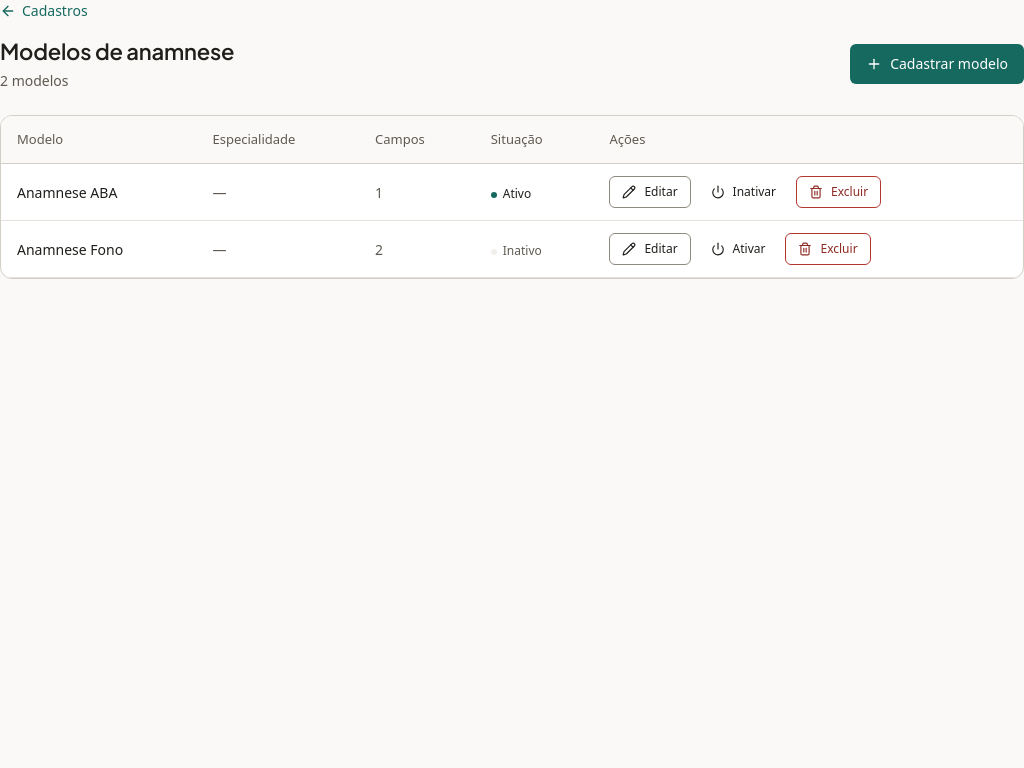
Scenario: Modelos de anamnese — builder de campos › deve comunicar o conflito de versão sem sobrescrever, na edição
The width and height of the screenshot is (1024, 768).
Click the button "Editar" in the row of "Anamnese ABA" at coordinates (650, 192), box [609,176,691,208]
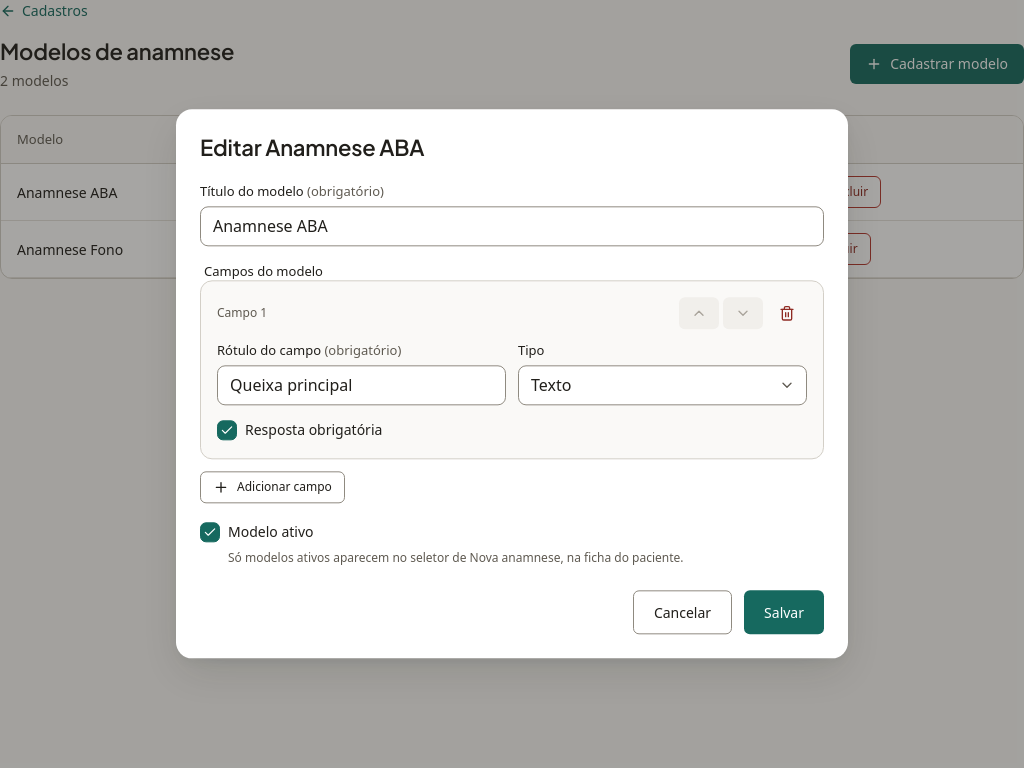
Replace the text in the field labelled "Rótulo do campo (obrigatório)" with "Outro rótulo" at coordinates (362, 386), box [217,366,506,406]
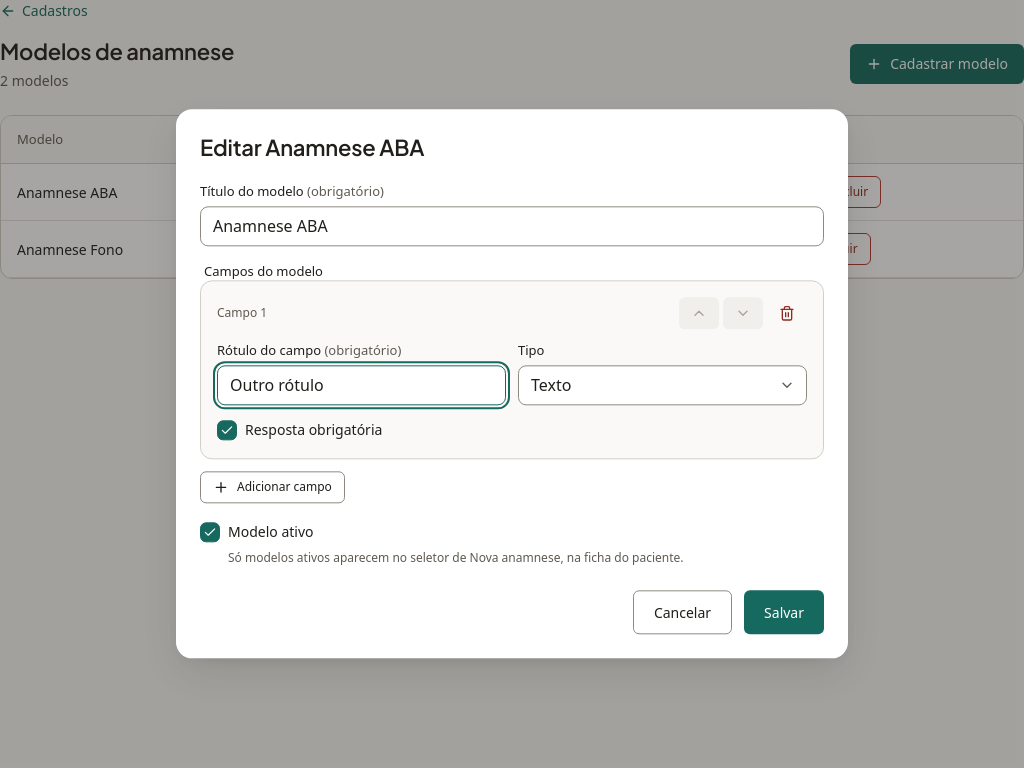
Click the button "Salvar" at coordinates (784, 613), box [744,591,824,635]
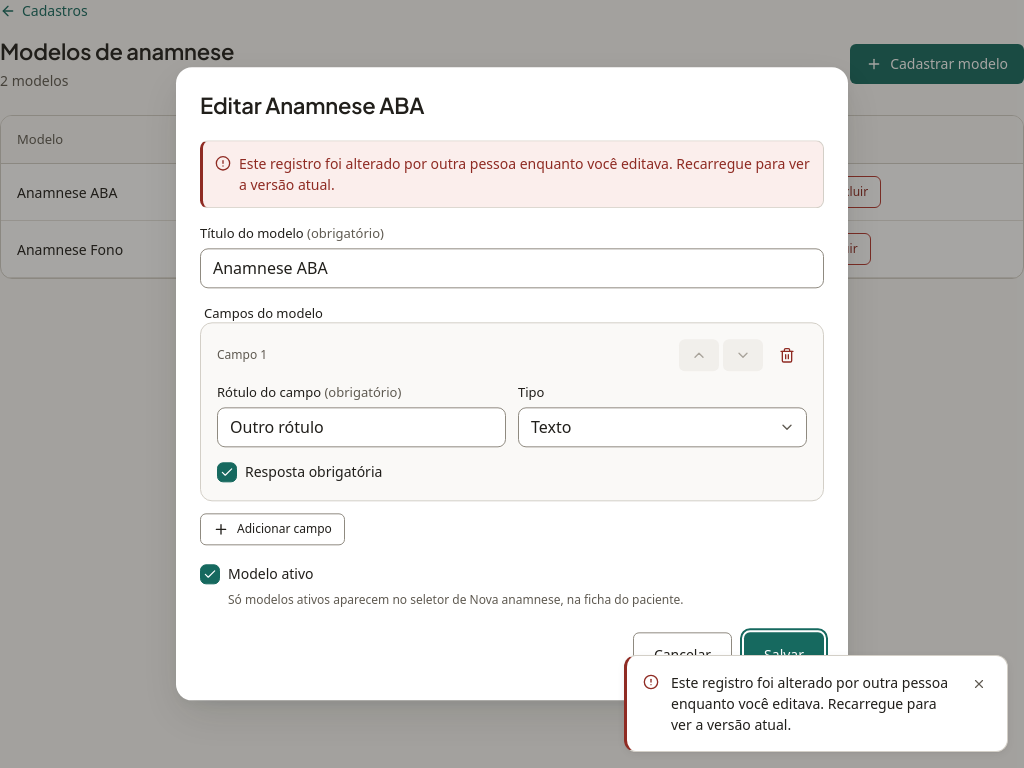
Result: the text "alterado por outra pessoa" below "Editar Anamnese ABA" is shown at [239,154,810,194]
